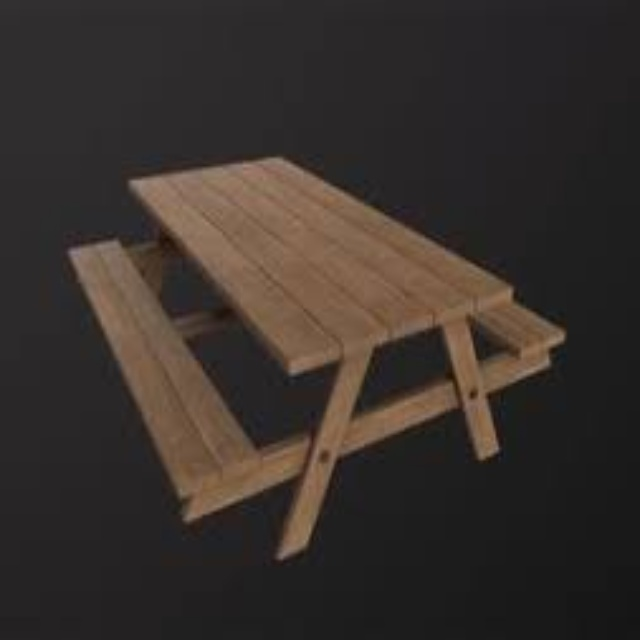obstacle: (66, 154, 564, 585)
